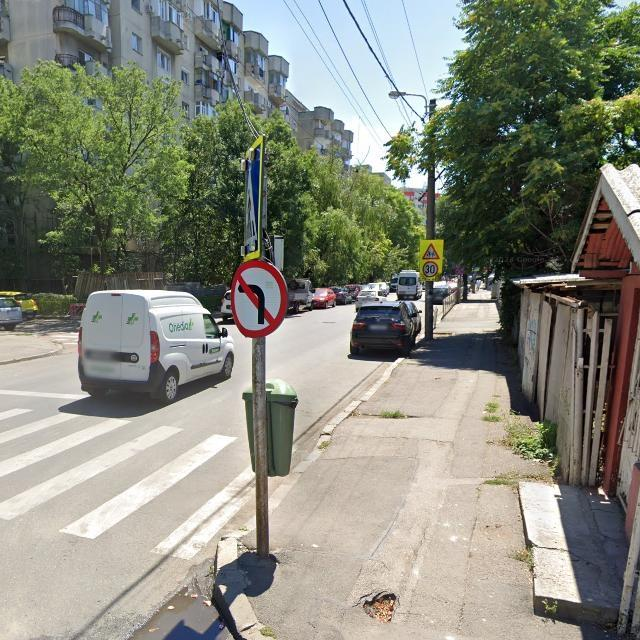forb_speed_over_30: (423, 261, 439, 277)
